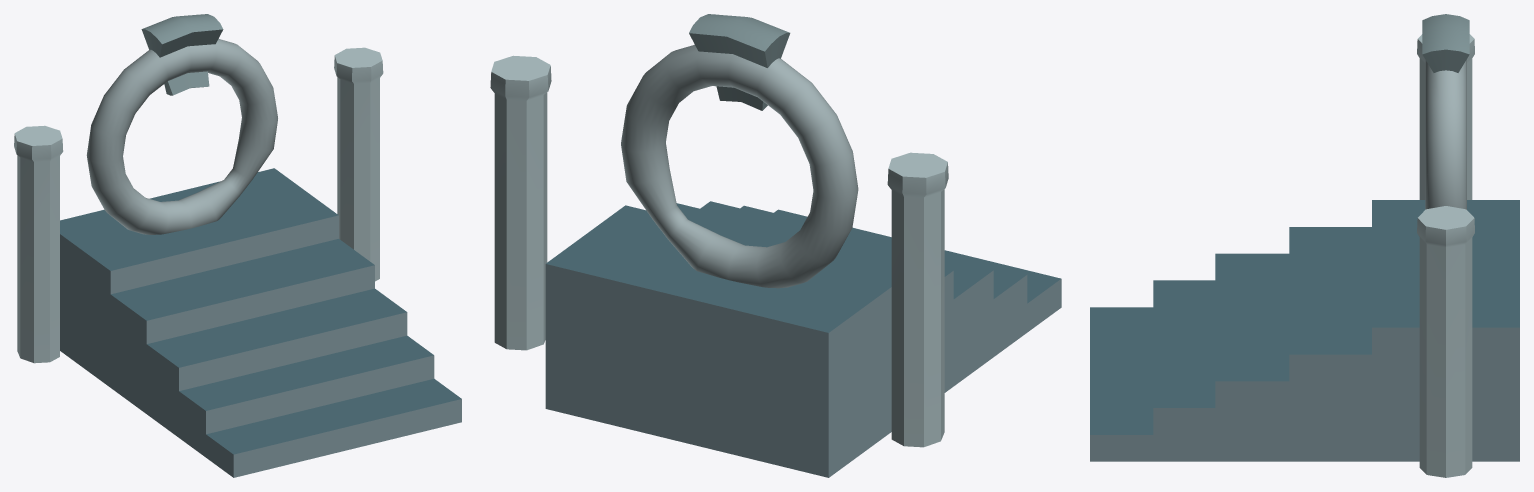
The model's file is EndGate.fbx.
3 renders of one model, left to right at view 1: azimuth 30°, elevation 25°; view 2: azimuth 150°, elevation 25°; view 3: azimuth 270°, elevation 25°, orthographic. The views are drawn at different scales.
Parts seen in each view (by area): view 1: EndGate; view 2: EndGate; view 3: EndGate.
Part boxes in pixels (left/top/right/bottom): EndGate: left=14, top=14, right=461, bottom=477; EndGate: left=490, top=14, right=1061, bottom=477; EndGate: left=1090, top=14, right=1519, bottom=477.
Size of the model in its own units: 468 by 392 by 417.
